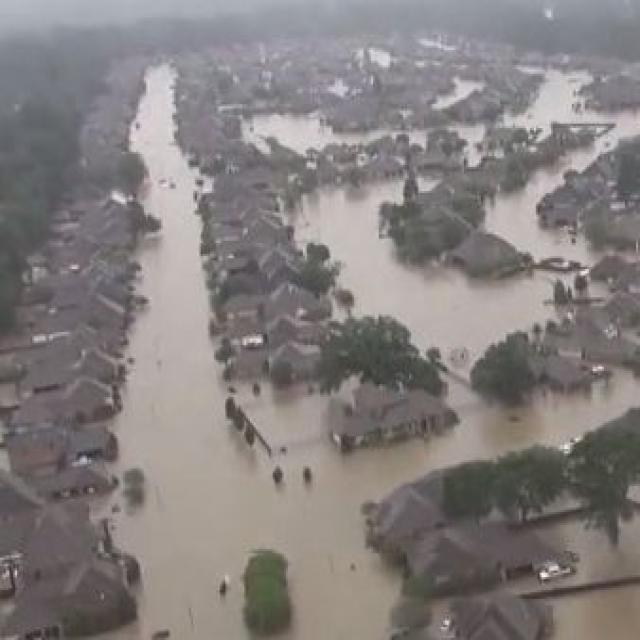flooded_areas: (99, 50, 638, 638)
